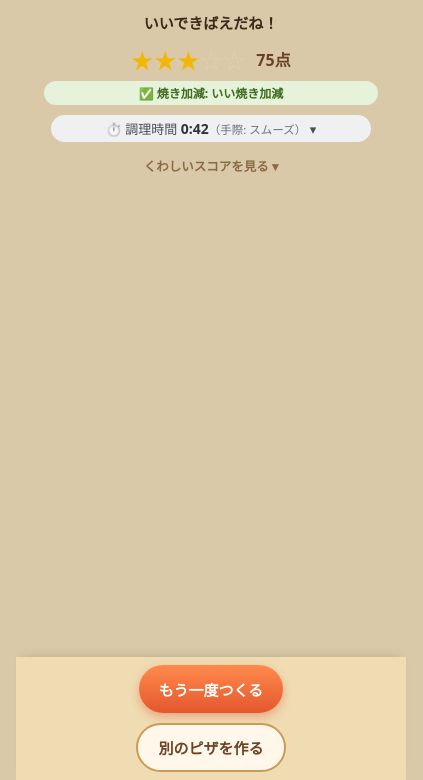
Test: ResultPanel › Timing Transparency (.cooking-timing-summary) › shows the CUT-time disclaimer note when a CUT row is present, after opening the breakdown
Click the heading with class "cooking-timing-summary__summary" at (206, 128), box [106,119,306,138]
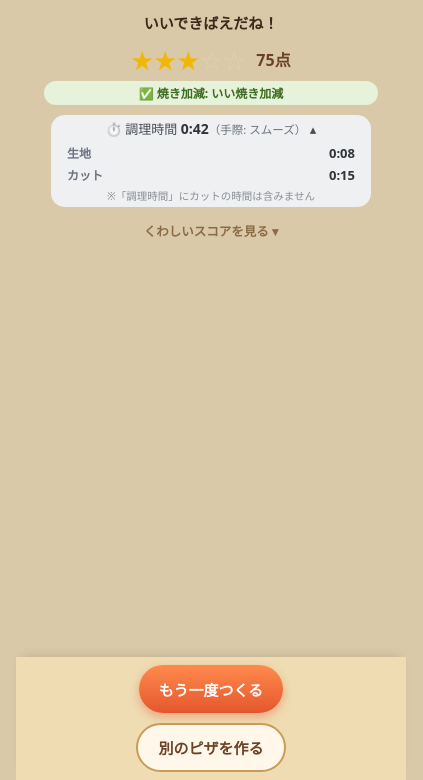
Expected: the text "※「調理時間」にカットの時間は含みません" is shown, [107,189,315,203]
Expected: the text "カット" is shown, [67,166,103,184]
Expected: the text "0:15" is shown, [329,166,355,184]
